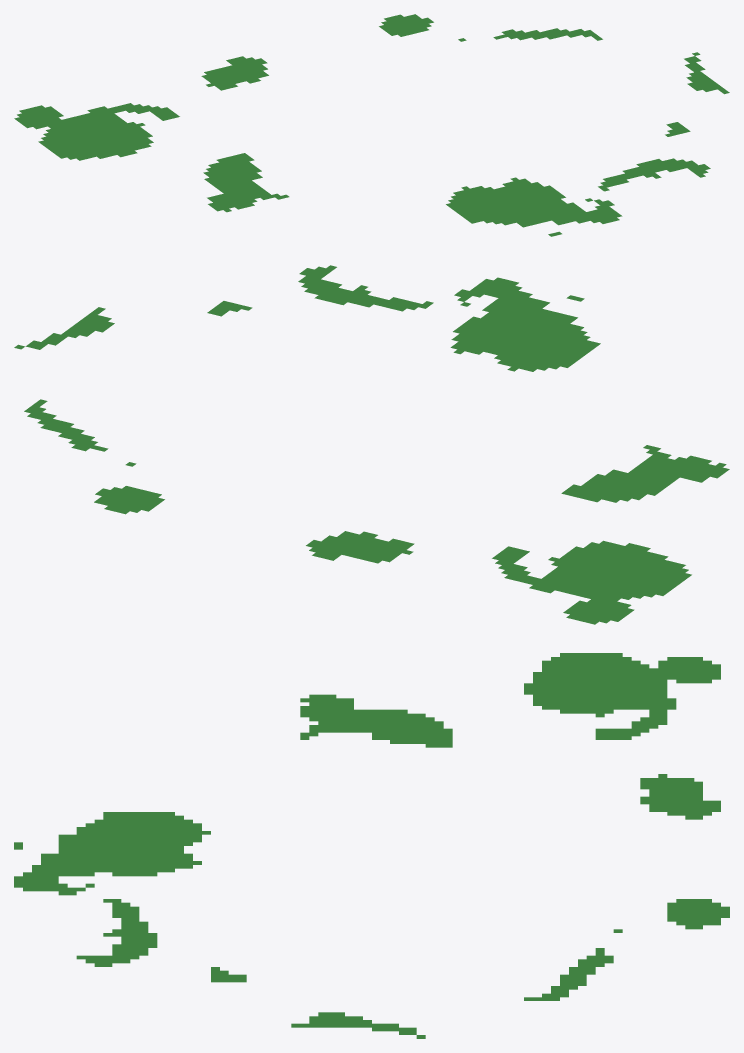
Rendered from Isl-hilly1-TreesArea.fbx.
3 views of the same model, one above another, from view 1: azimuth 30°, elevation 25°; view 2: azimuth 150°, elevation 25°; view 3: azimuth 270°, elevation 25° (orthographic). The views are drawn at different scales.
Visible parts, largest first — view 1: Isl-hilly1-TreesArea; view 2: Isl-hilly1-TreesArea; view 3: Isl-hilly1-TreesArea.
Boxes of the visible parts, x1,y1,x2,y2 form: Isl-hilly1-TreesArea: [14, 14, 729, 236]; Isl-hilly1-TreesArea: [14, 265, 729, 624]; Isl-hilly1-TreesArea: [14, 653, 729, 1038].
Bounding box in the file's own units: 102 × 0 × 80.
